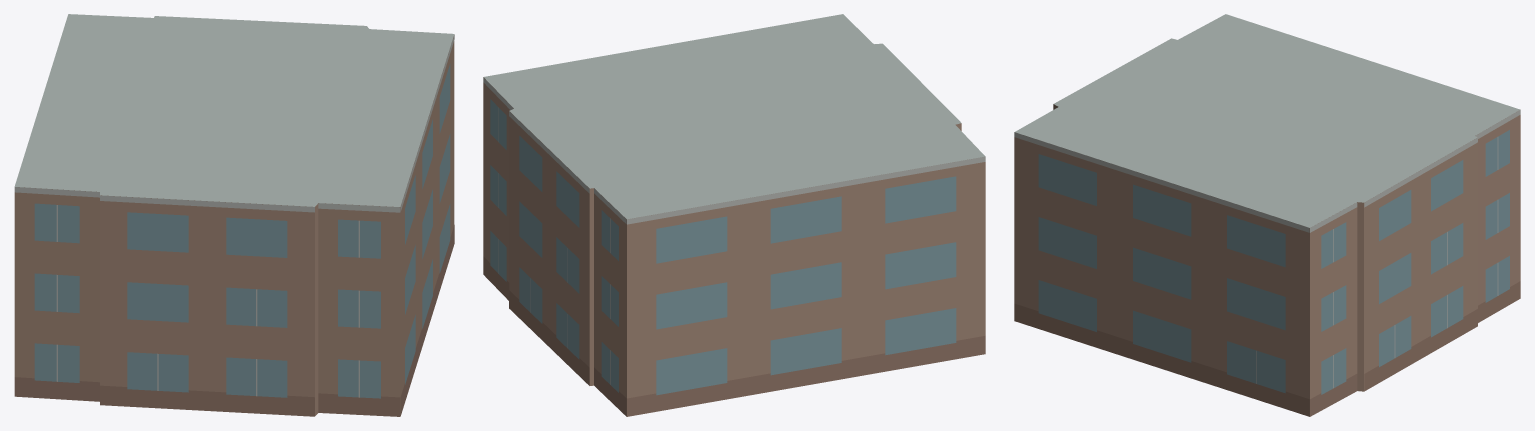
The model's file is survey-upis-32628277.glb.
The picture shows the model from 3 angles, left to right: view 1: azimuth 30°, elevation 25°; view 2: azimuth 150°, elevation 25°; view 3: azimuth 270°, elevation 25°; orthographic projection. The views are drawn at different scales.
Parts seen in each view (by area): view 1: survey-upis-32628277.tmp; view 2: survey-upis-32628277.tmp; view 3: survey-upis-32628277.tmp.
Boxes of the visible parts, <box> form: survey-upis-32628277.tmp: <box>14,14,454,416</box>; survey-upis-32628277.tmp: <box>483,14,985,416</box>; survey-upis-32628277.tmp: <box>1014,14,1520,416</box>.
Bounding box in the file's own units: 22.22 × 9.15 × 22.22.
